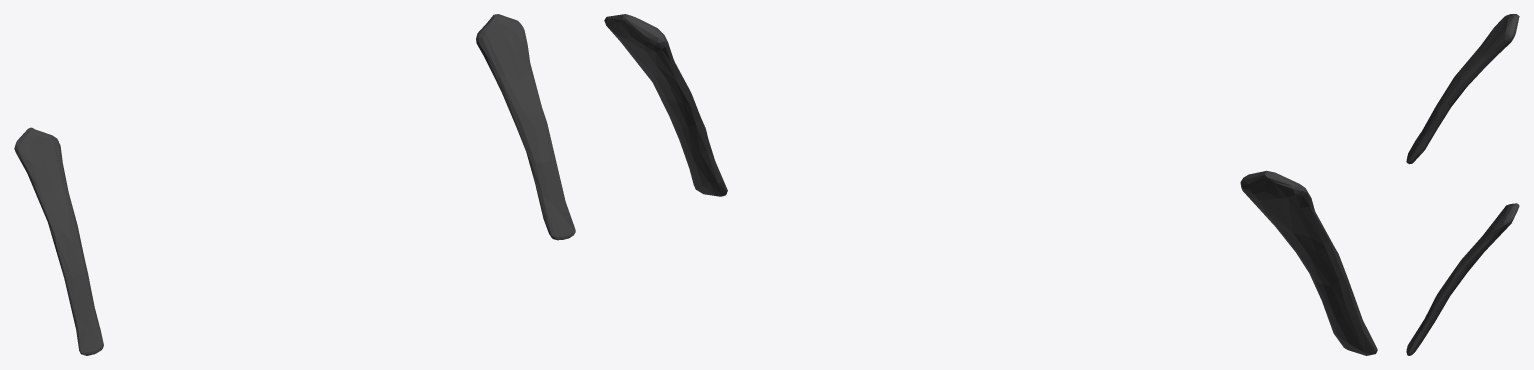
File: lig_straight_sesamoidean_FL.glb
The picture shows the model from 3 angles, left to right: view 1: azimuth 30°, elevation 25°; view 2: azimuth 150°, elevation 25°; view 3: azimuth 270°, elevation 25°; orthographic projection. The views are drawn at different scales.
Visible parts, largest first — view 1: lig_straight_sesamoidean_FL; view 2: lig_straight_sesamoidean_FL; view 3: lig_straight_sesamoidean_FL.
Boxes of the visible parts, x1,y1,x2,y2 form: lig_straight_sesamoidean_FL: (14,14,575,355); lig_straight_sesamoidean_FL: (604,14,1377,355); lig_straight_sesamoidean_FL: (1406,14,1519,355).
Bounding box in the file's own units: 0.00348 × 0.00117 × 0.000807.
Materials: 1 (1 with a texture image).
